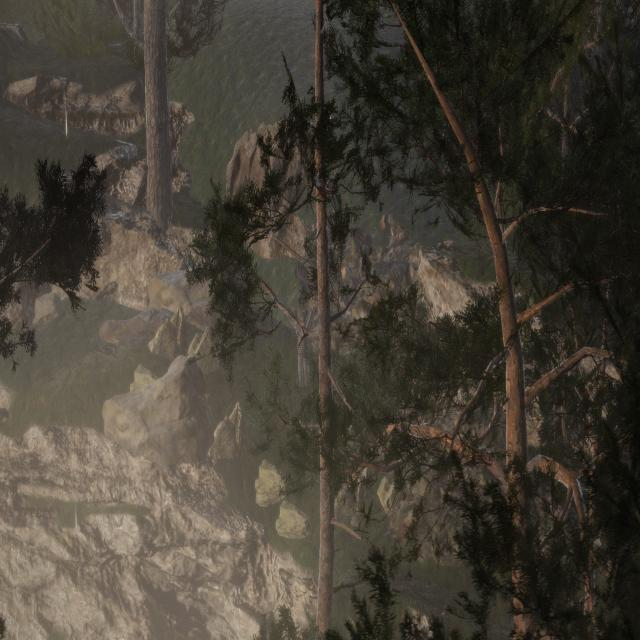Human: (282, 290, 319, 402)
